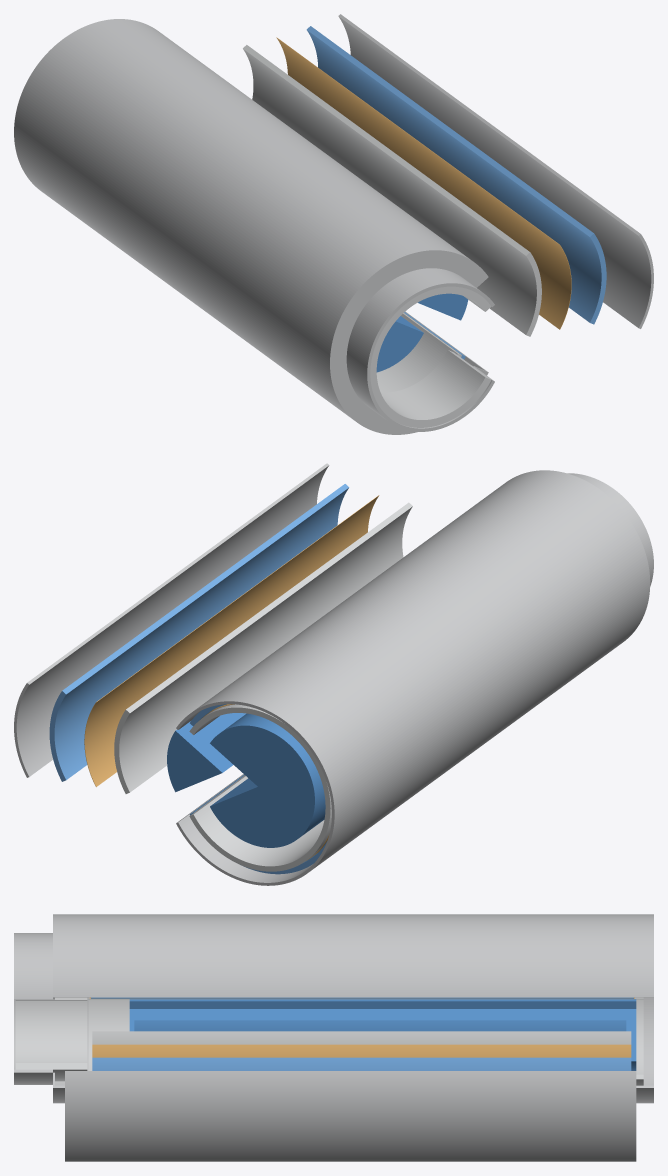
Rendered from THERMAL_PEEL_CUTAWAY.glb.
The picture shows the model from 3 angles, top to bottom: view 1: azimuth 30°, elevation 25°; view 2: azimuth 150°, elevation 25°; view 3: azimuth 270°, elevation 25°; orthographic projection. The views are drawn at different scales.
Parts seen in each view (by area): view 1: Outer_Main, Inner_Wedge, Outer_Wedge, Vacuum_Wedge, Reflective_Wedge, Inner_Main, Liquid_Main, Liquid_Wedge; view 2: Outer_Main, Inner_Wedge, Outer_Wedge, Vacuum_Wedge, Liquid_Main, Reflective_Wedge, Inner_Main, Liquid_Wedge, Vacuum_Main; view 3: Outer_Main, Outer_Wedge, Liquid_Main, Inner_Main, Inner_Wedge, Vacuum_Wedge, Reflective_Wedge, Liquid_Wedge, Vacuum_Main.
Part boxes in pixels (x1=…): Outer_Main: x1=14, y1=19, x2=494, y2=434; Inner_Wedge: x1=243, y1=45, x2=541, y2=336; Outer_Wedge: x1=338, y1=14, x2=653, y2=328; Vacuum_Wedge: x1=306, y1=26, x2=606, y2=324; Reflective_Wedge: x1=276, y1=37, x2=571, y2=329; Inner_Main: x1=370, y1=286, x2=491, y2=427; Liquid_Main: x1=376, y1=316, x2=423, y2=372; Liquid_Wedge: x1=418, y1=293, x2=468, y2=320; Outer_Main: x1=176, y1=470, x2=653, y2=885; Inner_Wedge: x1=114, y1=502, x2=412, y2=793; Outer_Wedge: x1=14, y1=463, x2=329, y2=777; Vacuum_Wedge: x1=49, y1=484, x2=349, y2=781; Liquid_Main: x1=210, y1=713, x2=325, y2=847; Reflective_Wedge: x1=84, y1=495, x2=379, y2=786; Inner_Main: x1=189, y1=704, x2=331, y2=871; Liquid_Wedge: x1=167, y1=713, x2=246, y2=792; Vacuum_Main: x1=189, y1=704, x2=327, y2=874; Outer_Main: x1=14, y1=914, x2=653, y2=1103; Outer_Wedge: x1=65, y1=1071, x2=636, y2=1161; Liquid_Main: x1=129, y1=999, x2=636, y2=1070; Inner_Main: x1=15, y1=997, x2=643, y2=1085; Inner_Wedge: x1=92, y1=1031, x2=631, y2=1044; Vacuum_Wedge: x1=92, y1=1057, x2=631, y2=1070; Reflective_Wedge: x1=92, y1=1044, x2=631, y2=1057; Liquid_Wedge: x1=134, y1=1020, x2=626, y2=1031; Vacuum_Main: x1=91, y1=997, x2=633, y2=998.
Size of the model in its own units: 0.146 by 0.076 by 0.2576.
